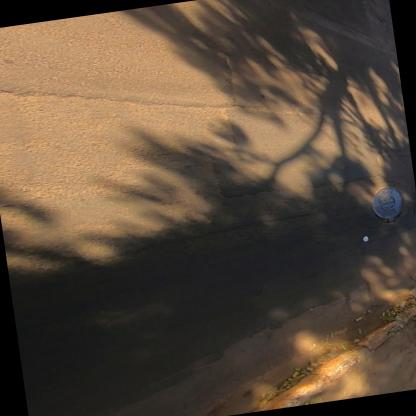manholes: (348, 177, 416, 230)
